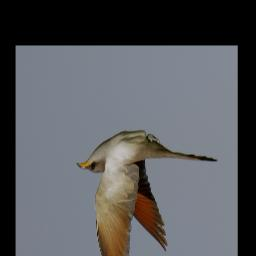Cuckoo: (77, 132, 217, 256)
